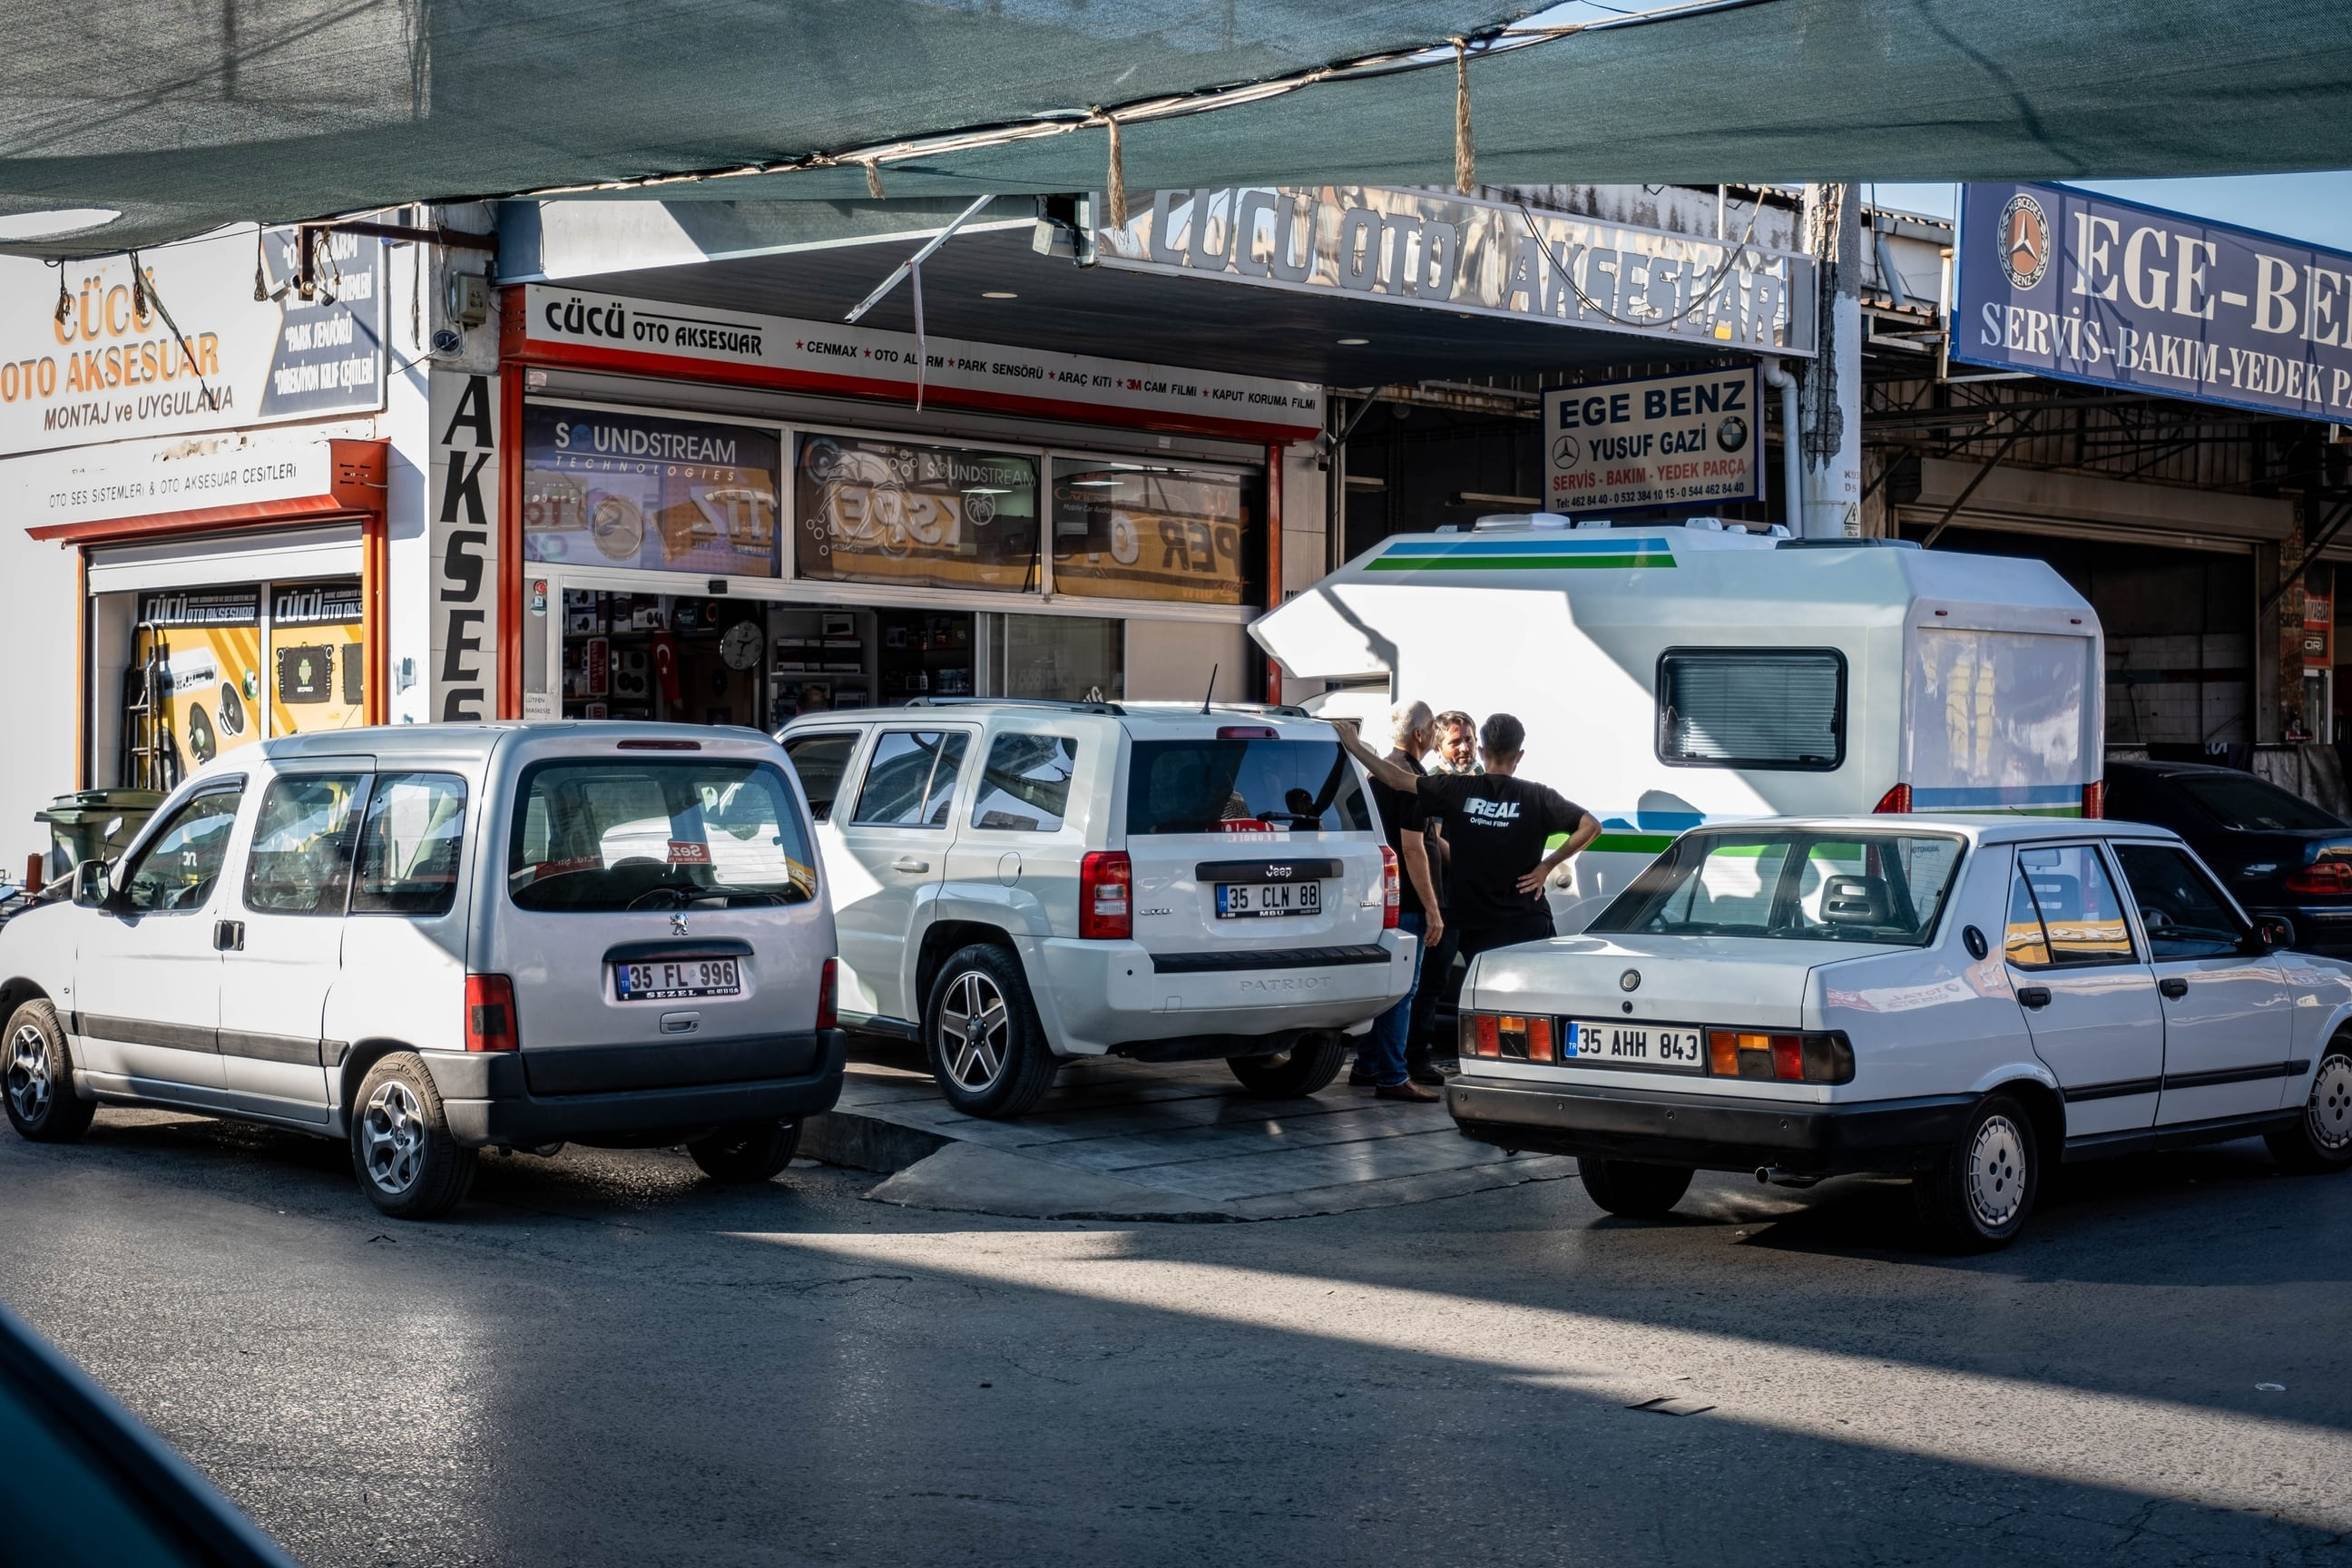plaka: (1562, 1020, 1705, 1068), (614, 955, 739, 995), (1215, 878, 1321, 916)
